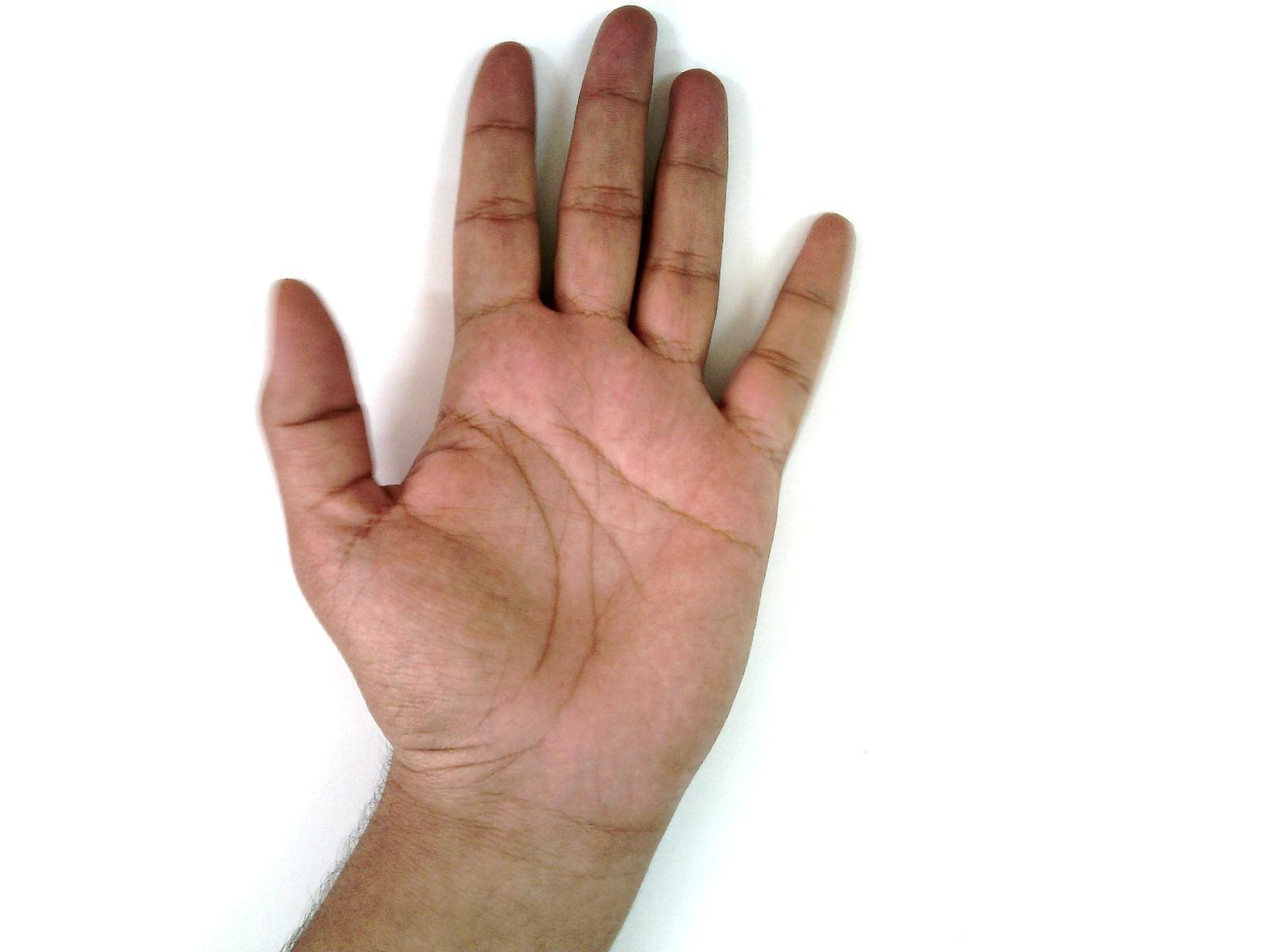open_palm: (256, 3, 858, 823)
